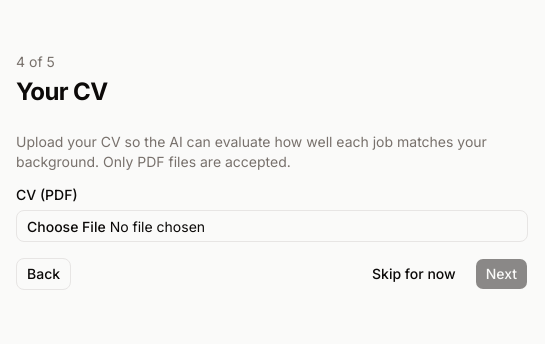
Test: OnboardingWizard › step 4 Skip button advances to step 5 without uploading
The image size is (545, 344).
Click the button "Skip for now" at (414, 274), box [361,258,467,290]
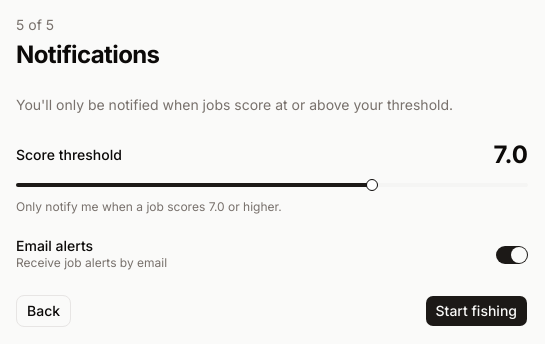
Result: the text "5 of 5" is shown at [16,16,54,33]
